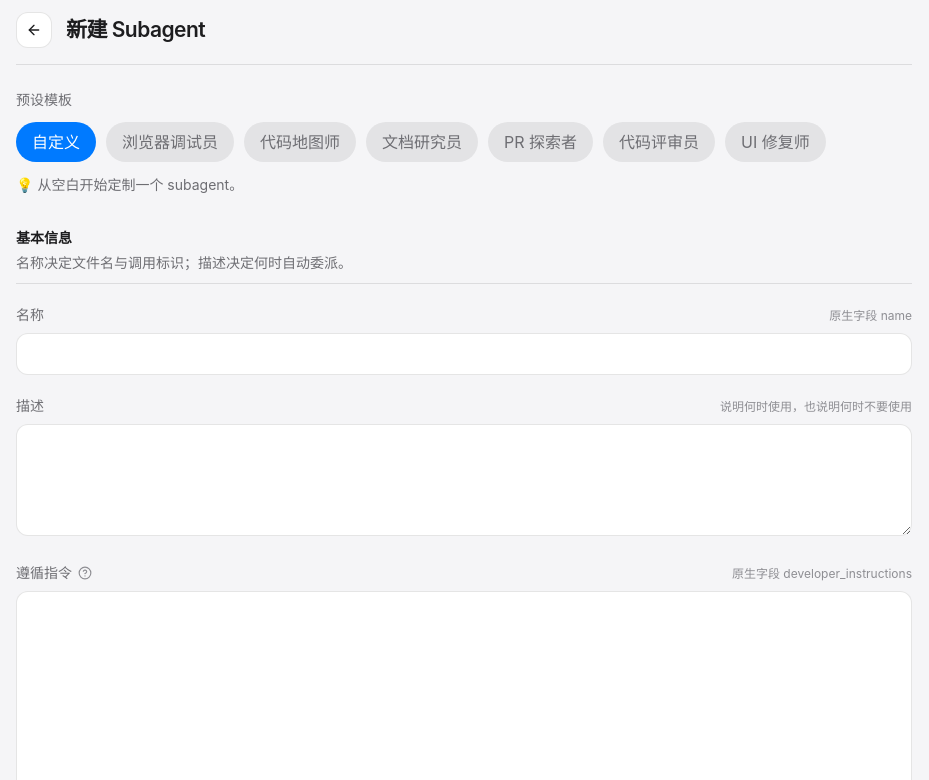
CreatePage › loads the clicked preset template into the editor
Expected: the field labelled "名称" is empty, [16,333,912,375]
Click the button "代码评审员": (659, 142) [603,122,715,162]
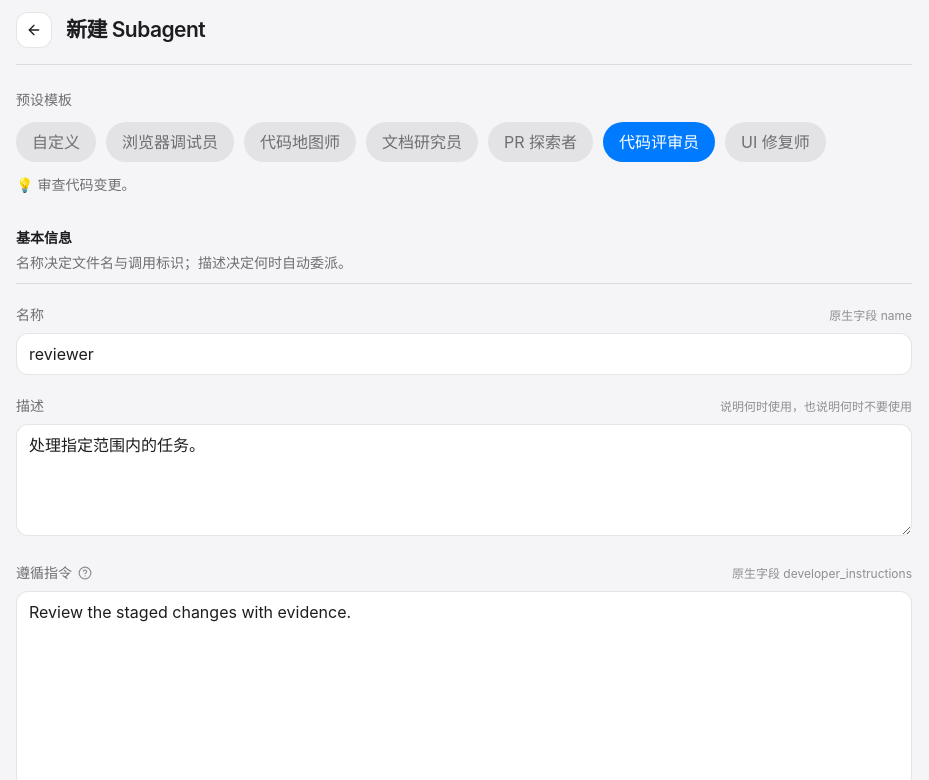
Expected: the field showing "reviewer" is shown, [16,333,912,375]
Expected: the text "💡 审查代码变更。" is shown, [16,176,135,193]
